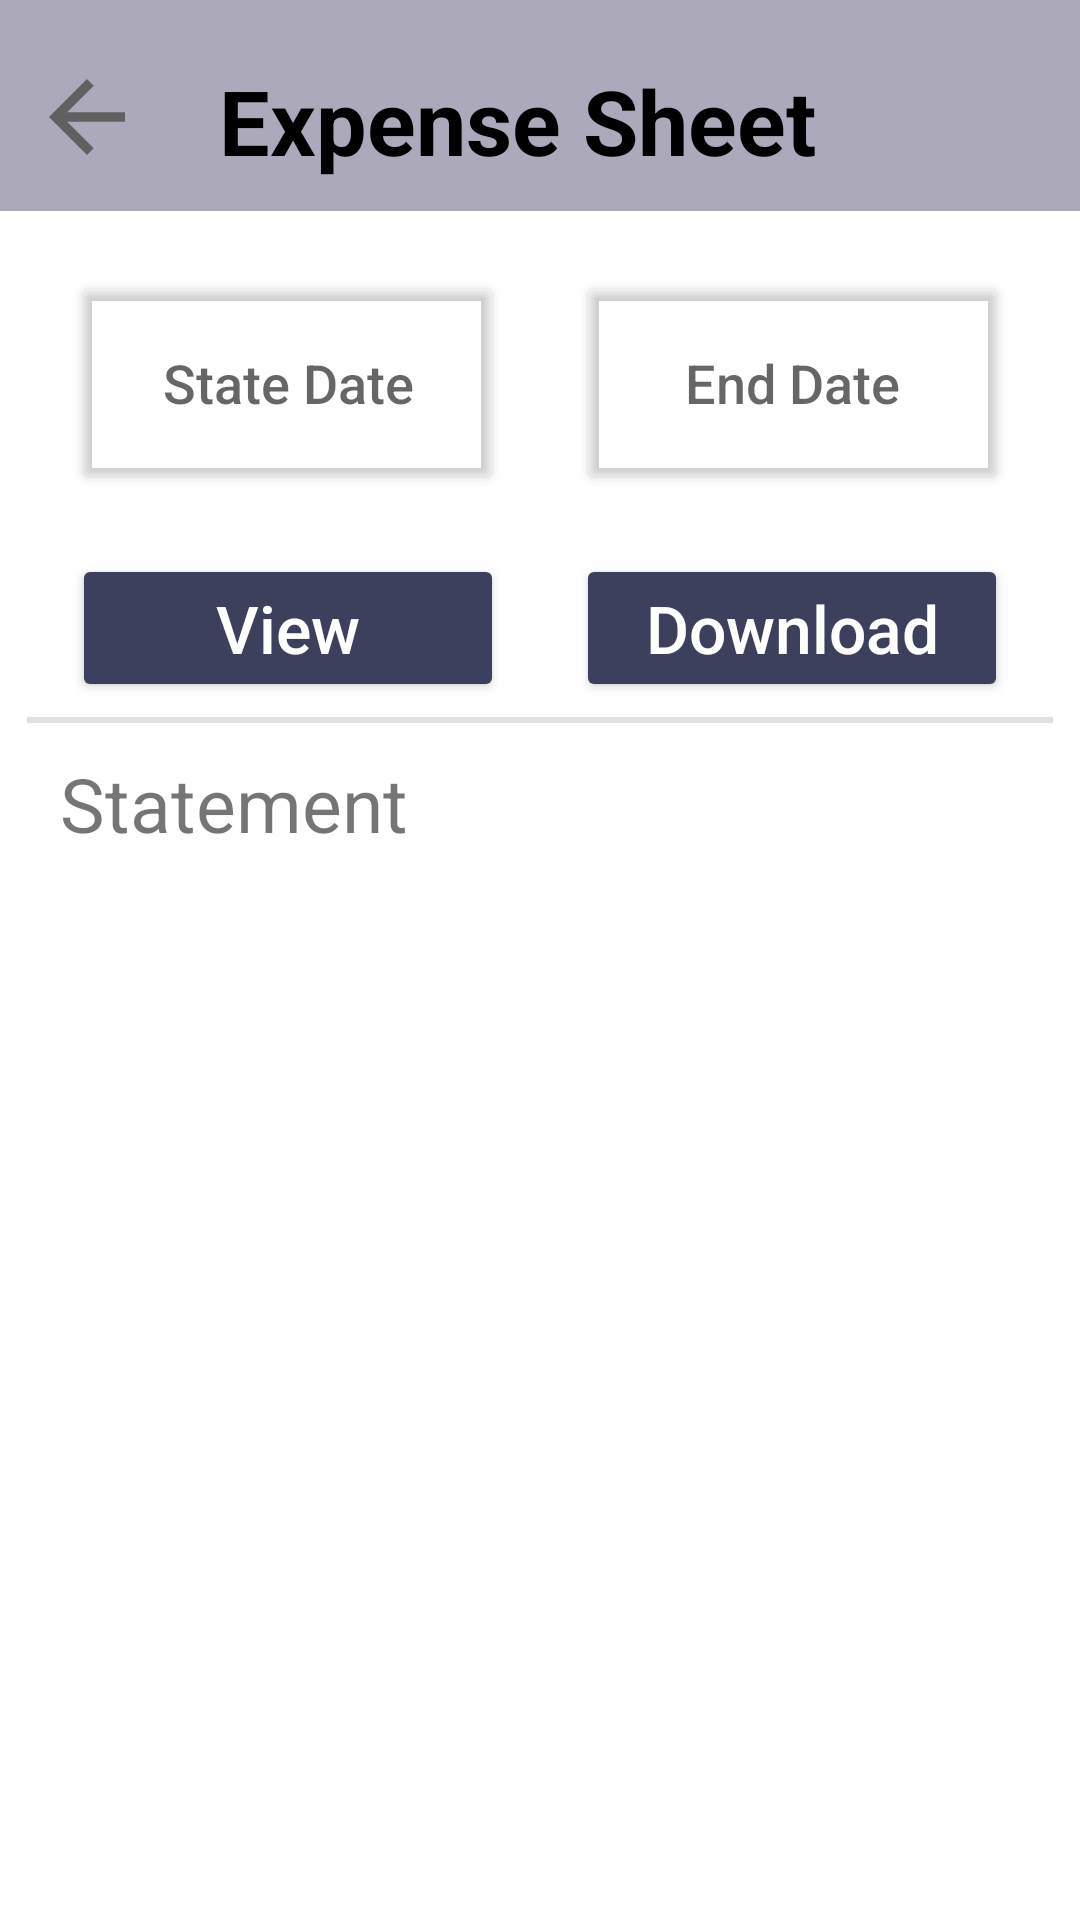

Icons on this 1080px x 1920px Android screen, each with its box as (x1, y1, x2, y2):
arrow back: (49, 79, 125, 155)
